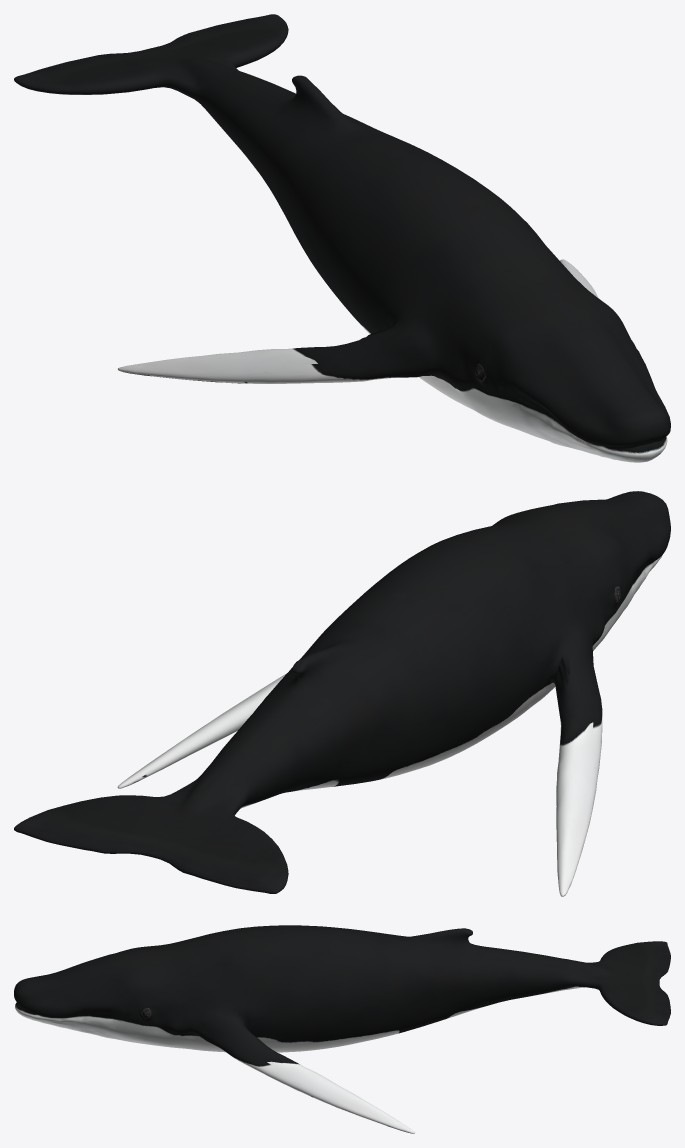
The model's file is whale_fixed+.glb.
The picture shows the model from 3 angles, top to bottom: view 1: azimuth 30°, elevation 25°; view 2: azimuth 150°, elevation 25°; view 3: azimuth 270°, elevation 25°; orthographic projection. The views are drawn at different scales.
Visible parts, largest first — view 1: model; view 2: model; view 3: model.
Boxes of the visible parts, x1=… form: model: x1=14, y1=14, x2=670, y2=462; model: x1=14, y1=491, x2=670, y2=896; model: x1=14, y1=925, x2=670, y2=1133.
Size of the model in its own units: 0.96 by 0.4323 by 1.9.
1 material, 1 textured.
